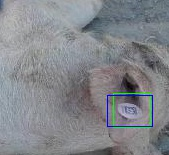text: (113, 93, 150, 127)
